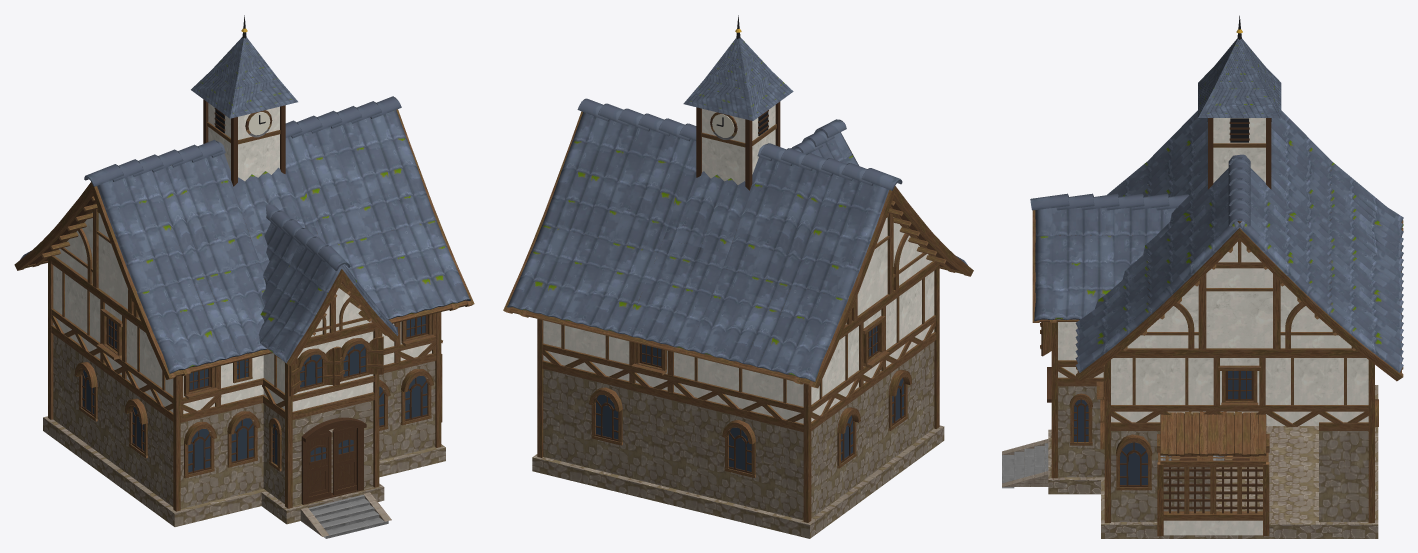
The model's file is library.glb.
3 views of the same model, side by side, from view 1: azimuth 30°, elevation 25°; view 2: azimuth 150°, elevation 25°; view 3: azimuth 270°, elevation 25° (orthographic). The views are drawn at different scales.
Visible parts, largest first — view 1: Roof_RoundTiles_8x10.088, Roof_RoundTiles_4x4.085, Plinth.001, Roof_Front_Brick8.089, TurretRoof.122, Wall_UnevenBrick_Door_Round.065, Wall_UnevenBrick_Window_Wide_Round.005, Stairs_Exterior_Straight.087, TurretBody.091, Wall_UnevenBrick_Window_Wide_Round.009, Wall_UnevenBrick_Straight.022, Wall_UnevenBrick_Window_Wide_Round.003 (+39 smaller); view 2: Roof_RoundTiles_8x10.088, Plinth.001, Roof_Front_Brick8.089, TurretRoof.122, Wall_UnevenBrick_Straight.015, Wall_UnevenBrick_Straight.014, Wall_UnevenBrick_Straight.011, Wall_UnevenBrick_Straight.018, Wall_UnevenBrick_Window_Wide_Round.012, Wall_UnevenBrick_Window_Wide_Round.016, TurretBody.091, Wall_UnevenBrick_Straight.022 (+24 smaller); view 3: Roof_RoundTiles_8x10.088, Roof_Front_Brick8.090, Roof_RoundTiles_4x4.085, Plinth.001, Wall_UnevenBrick_Straight.029, TurretRoof.122, Wall_Plaster_Straight+upper.059, Wall_Plaster_Straight+upper.055, Wall_Plaster_Straight+upper.060, Wall_Plaster_WoodGrid+upper.125, Wall_UnevenBrick_Window_Thin_Round.071, Wall_Plaster_WoodGrid+upper.126 (+18 smaller).
Boxes of the visible parts, left/top/right/bottom form: Roof_RoundTiles_8x10.088: left=14, top=96, right=474, bottom=379; Roof_RoundTiles_4x4.085: left=258, top=204, right=398, bottom=366; Plinth.001: left=43, top=416, right=445, bottom=526; Roof_Front_Brick8.089: left=41, top=196, right=144, bottom=329; TurretRoof.122: left=191, top=37, right=297, bottom=118; Wall_UnevenBrick_Door_Round.065: left=292, top=392, right=374, bottom=505; Wall_UnevenBrick_Window_Wide_Round.005: left=220, top=394, right=264, bottom=499; Stairs_Exterior_Straight.087: left=300, top=492, right=391, bottom=538; TurretBody.091: left=208, top=103, right=279, bottom=181; Wall_UnevenBrick_Window_Wide_Round.009: left=394, top=353, right=436, bottom=456; Wall_UnevenBrick_Straight.022: left=99, top=361, right=126, bottom=472; Wall_UnevenBrick_Window_Wide_Round.003: left=180, top=406, right=221, bottom=508; Roof_RoundTiles_8x10.088: left=503, top=98, right=973, bottom=388; Plinth.001: left=532, top=425, right=944, bottom=538; Roof_Front_Brick8.089: left=840, top=200, right=946, bottom=336; TurretRoof.122: left=683, top=37, right=793, bottom=120; Wall_UnevenBrick_Straight.015: left=673, top=392, right=718, bottom=499; Wall_UnevenBrick_Straight.014: left=628, top=382, right=674, bottom=488; Wall_UnevenBrick_Straight.011: left=542, top=360, right=585, bottom=466; Wall_UnevenBrick_Straight.018: left=762, top=414, right=803, bottom=520; Wall_UnevenBrick_Window_Wide_Round.012: left=584, top=370, right=629, bottom=477; Wall_UnevenBrick_Window_Wide_Round.016: left=717, top=403, right=762, bottom=510; TurretBody.091: left=702, top=105, right=775, bottom=184; Wall_UnevenBrick_Straight.022: left=858, top=369, right=886, bottom=483; Roof_RoundTiles_8x10.088: left=1075, top=110, right=1403, bottom=381; Roof_Front_Brick8.090: left=1116, top=240, right=1363, bottom=355; Roof_RoundTiles_4x4.085: left=1030, top=193, right=1189, bottom=322; Plinth.001: left=1101, top=385, right=1378, bottom=538; Wall_UnevenBrick_Straight.029: left=1319, top=422, right=1368, bottom=521; TurretRoof.122: left=1198, top=38, right=1281, bottom=117; Wall_Plaster_Straight+upper.059: left=1266, top=356, right=1318, bottom=426; Wall_Plaster_Straight+upper.055: left=1111, top=356, right=1160, bottom=423; Wall_Plaster_Straight+upper.060: left=1319, top=356, right=1368, bottom=423; Wall_Plaster_WoodGrid+upper.125: left=1160, top=457, right=1213, bottom=535; Wall_UnevenBrick_Window_Thin_Round.071: left=1058, top=377, right=1104, bottom=477; Wall_Plaster_WoodGrid+upper.126: left=1213, top=457, right=1265, bottom=535.
Bounding box in the file's own units: 14.65 × 19.14 × 15.22.
Materials: 10 (6 with a texture image).
